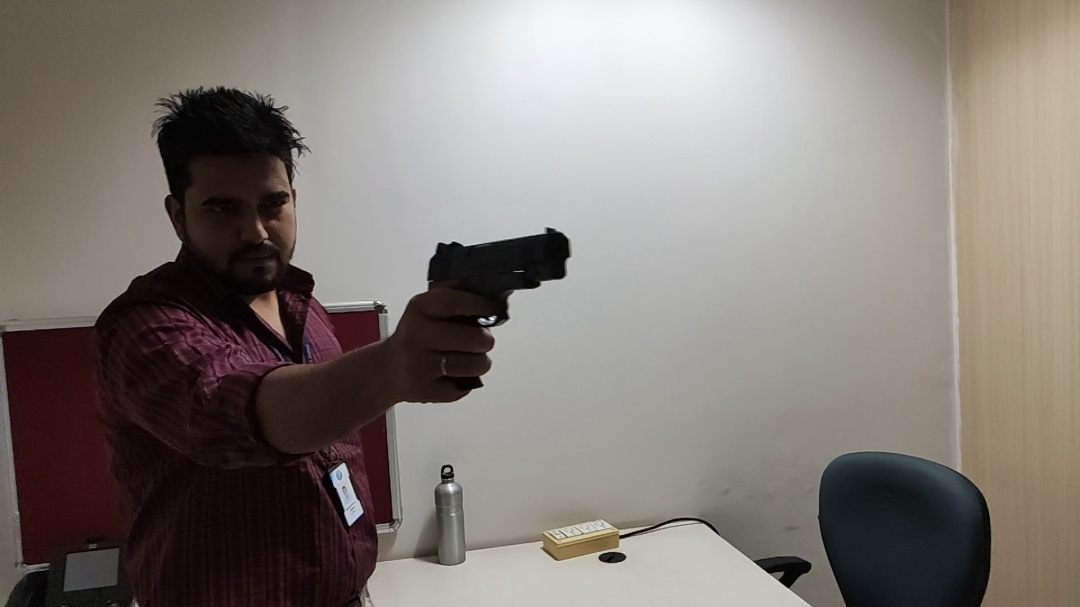gun: (423, 226, 581, 394)
